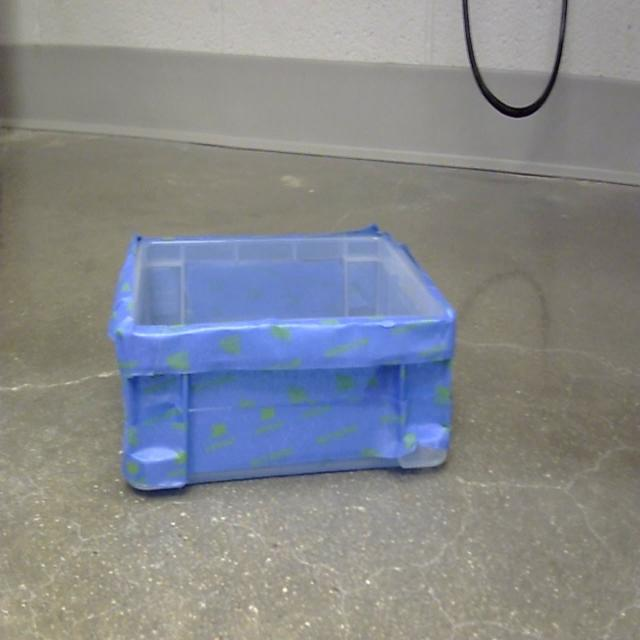bucket: (106, 225, 458, 497)
